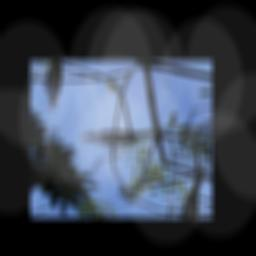Cuckoo: (78, 101, 156, 169)
